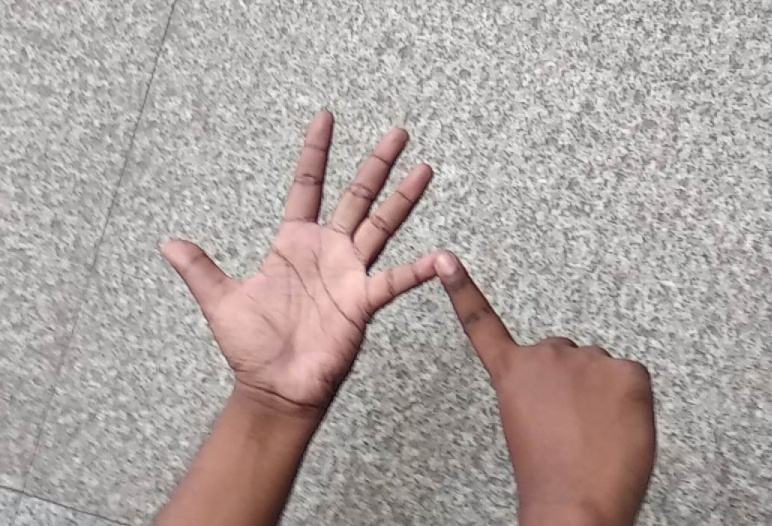i: (161, 106, 557, 396)
